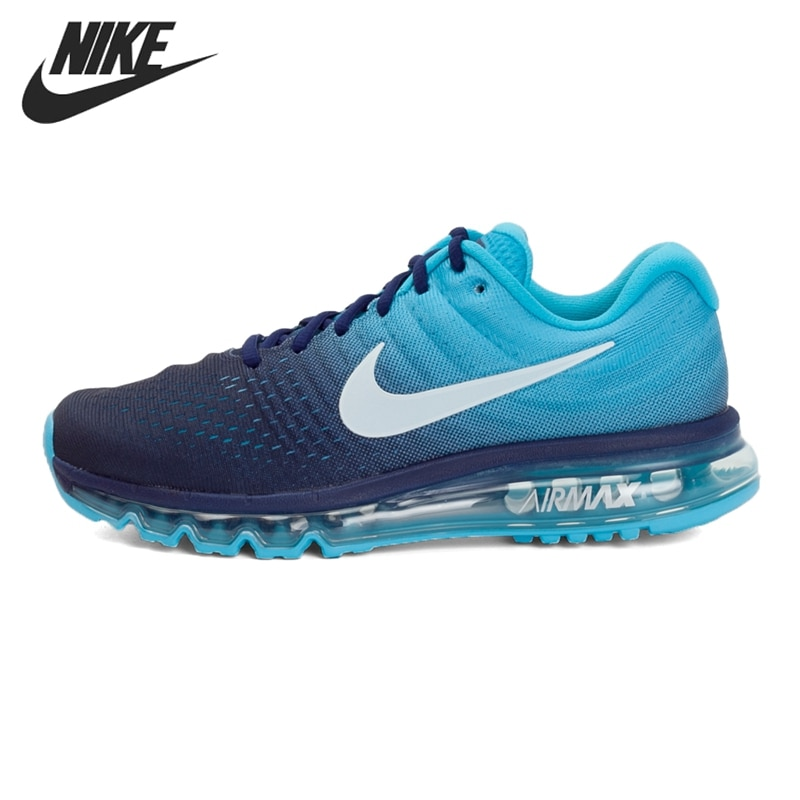nike: (337, 339, 617, 442)
